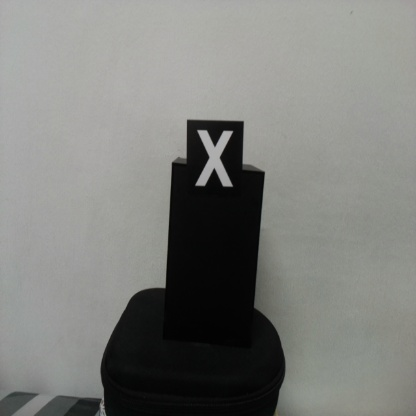id_13: (186, 120, 245, 203)
